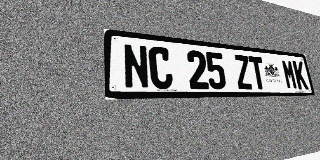2: (186, 50, 209, 89)
5: (205, 52, 227, 89)
C: (148, 46, 174, 89)
K: (292, 60, 308, 89)
M: (281, 59, 298, 89)
N: (122, 43, 150, 89)
T: (248, 56, 267, 89)
Z: (233, 54, 253, 89)
